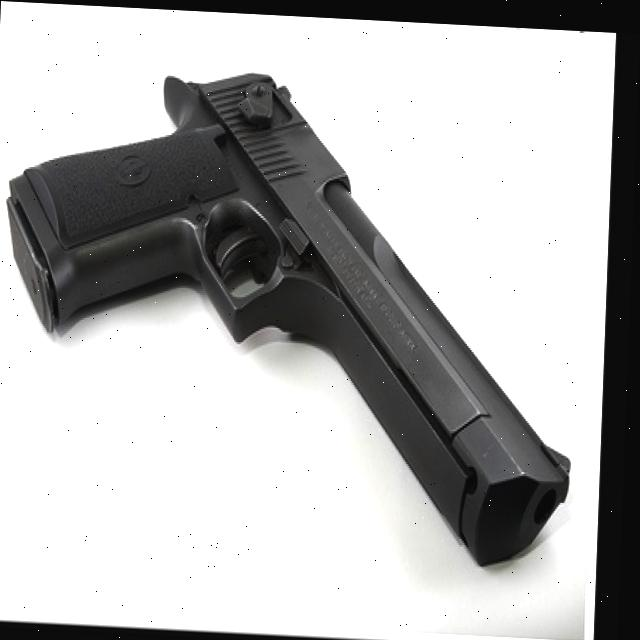pistol: (0, 55, 584, 561)
